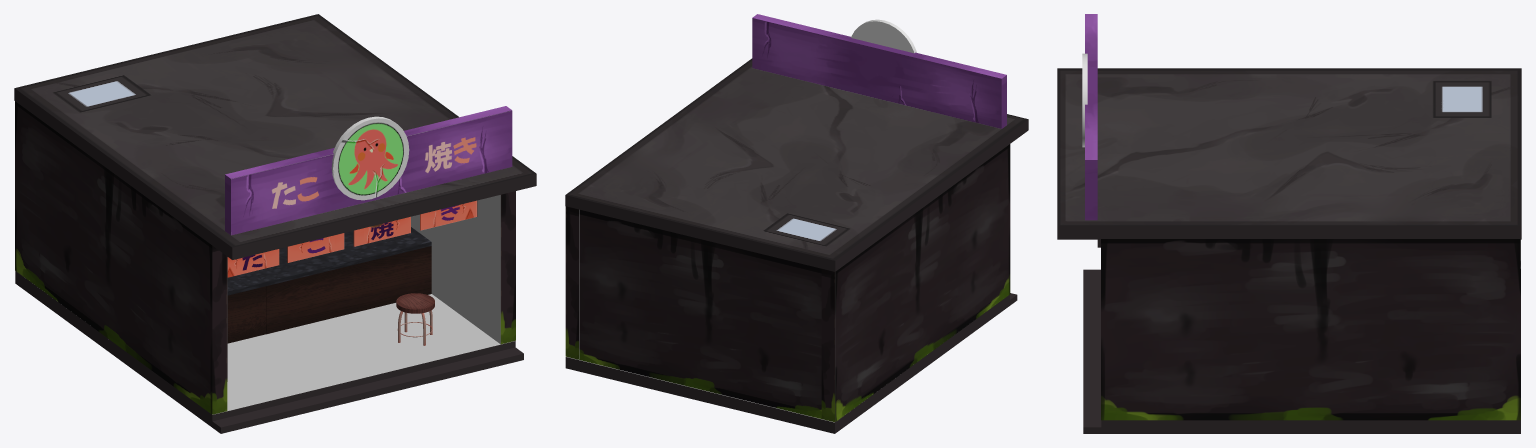
Rendered from Takoyaki_Shop1.fbx.
3 views of the same model, side by side, from view 1: azimuth 30°, elevation 25°; view 2: azimuth 150°, elevation 25°; view 3: azimuth 270°, elevation 25° (orthographic). The views are drawn at different scales.
Parts seen in each view (by area): view 1: Roof, Wall_SIde.002, Floor/Ground, Roof.001, Cylinder, Wall_SIde.001, Sign, Stool, Name_Curtin.001, Name_Curtin.003, Name_Curtin.002, Name_Curtin; view 2: Roof, Wall_back, Wall_SIde.002, Roof.001, Floor/Ground, Wall_SIde.001, Sign; view 3: Roof, Wall_SIde.001, Floor/Ground, Roof.001.
Boxes of the visible parts, left/top/right/bottom form: Roof: left=14, top=14, right=536, bottom=259; Wall_SIde.002: left=15, top=101, right=227, bottom=414; Floor/Ground: left=15, top=271, right=523, bottom=433; Roof.001: left=225, top=106, right=512, bottom=235; Cylinder: left=227, top=227, right=431, bottom=343; Wall_SIde.001: left=411, top=191, right=515, bottom=344; Sign: left=331, top=116, right=409, bottom=200; Stool: left=396, top=293, right=434, bottom=345; Name_Curtin.001: left=287, top=233, right=344, bottom=262; Name_Curtin.003: left=420, top=200, right=477, bottom=230; Name_Curtin.002: left=353, top=216, right=410, bottom=246; Name_Curtin: left=227, top=249, right=279, bottom=277; Roof: left=565, top=58, right=1028, bottom=271; Wall_back: left=579, top=209, right=842, bottom=422; Wall_SIde.002: left=821, top=144, right=1010, bottom=421; Roof.001: left=752, top=14, right=1006, bottom=128; Floor/Ground: left=565, top=293, right=1017, bottom=433; Wall_SIde.001: left=565, top=206, right=579, bottom=359; Sign: left=851, top=19, right=916, bottom=53; Roof: left=1057, top=68, right=1521, bottom=247; Wall_SIde.001: left=1101, top=239, right=1520, bottom=420; Floor/Ground: left=1083, top=269, right=1520, bottom=433; Roof.001: left=1085, top=14, right=1097, bottom=220.
Bounding box in the file's own units: 522 × 457 × 649.
